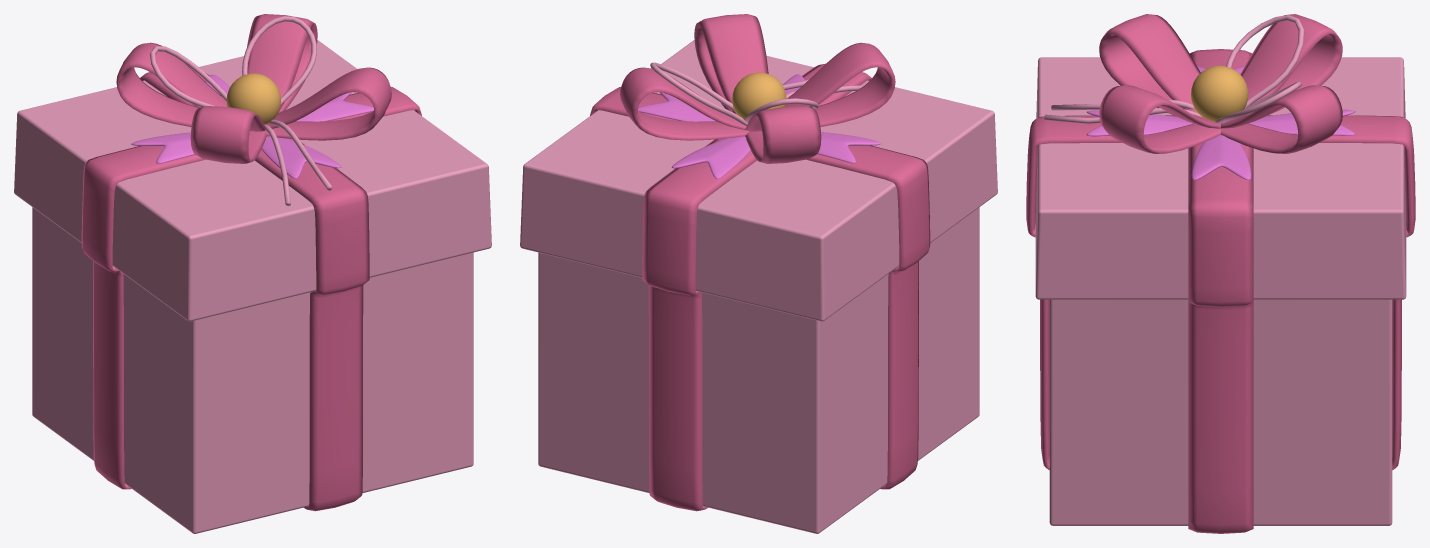
Rendered from giftboxpink.glb.
3 views of the same model, side by side, from view 1: azimuth 30°, elevation 25°; view 2: azimuth 150°, elevation 25°; view 3: azimuth 270°, elevation 25° (orthographic). The views are drawn at different scales.
Visible parts, largest first — view 1: Giftbox01, Giftbox02, Giftbox03, Giftbox04, Giftbox05, Giftbox06; view 2: Giftbox01, Giftbox02, Giftbox03, Giftbox04, Giftbox05, Giftbox06; view 3: Giftbox01, Giftbox02, Giftbox03, Giftbox04, Giftbox05, Giftbox06.
Boxes of the visible parts, x1,y1,x2,y2 form: Giftbox01: [14, 40, 491, 533]; Giftbox02: [81, 67, 421, 511]; Giftbox03: [116, 14, 391, 163]; Giftbox04: [131, 74, 373, 178]; Giftbox05: [150, 16, 332, 206]; Giftbox06: [226, 73, 280, 124]; Giftbox01: [520, 40, 997, 533]; Giftbox02: [590, 63, 930, 511]; Giftbox03: [620, 14, 895, 163]; Giftbox04: [638, 74, 881, 178]; Giftbox05: [650, 62, 864, 125]; Giftbox06: [732, 72, 786, 120]; Giftbox01: [1035, 57, 1406, 525]; Giftbox02: [1026, 49, 1415, 533]; Giftbox03: [1099, 14, 1342, 153]; Giftbox04: [1086, 66, 1355, 179]; Giftbox05: [1044, 15, 1304, 123]; Giftbox06: [1191, 65, 1248, 121].
Bounding box in the file's own units: 2.27 × 2.66 × 2.27.
